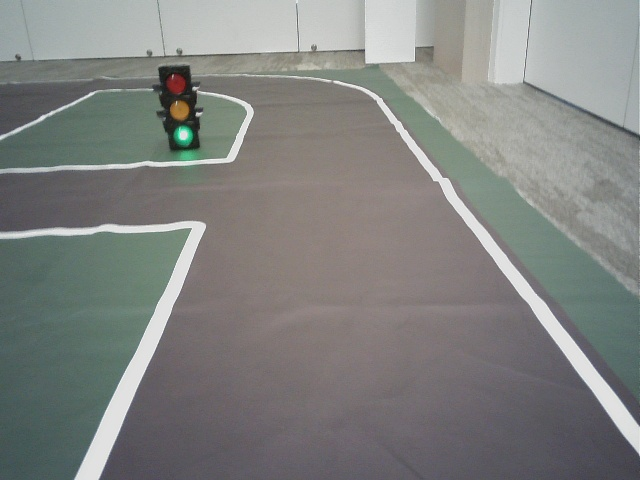green: (162, 70, 196, 149)
